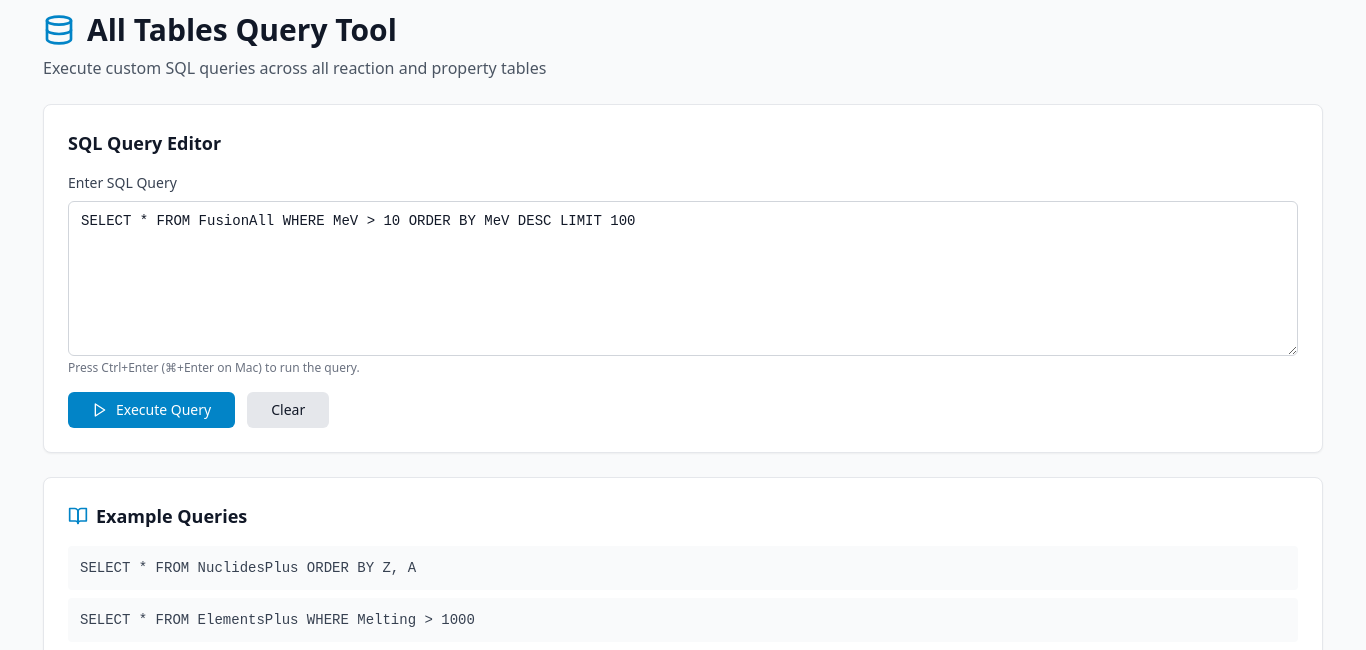
AllTables › shows error message on query failure
The width and height of the screenshot is (1366, 650).
Click the button "Execute Query": (152, 410) [68,392,235,428]
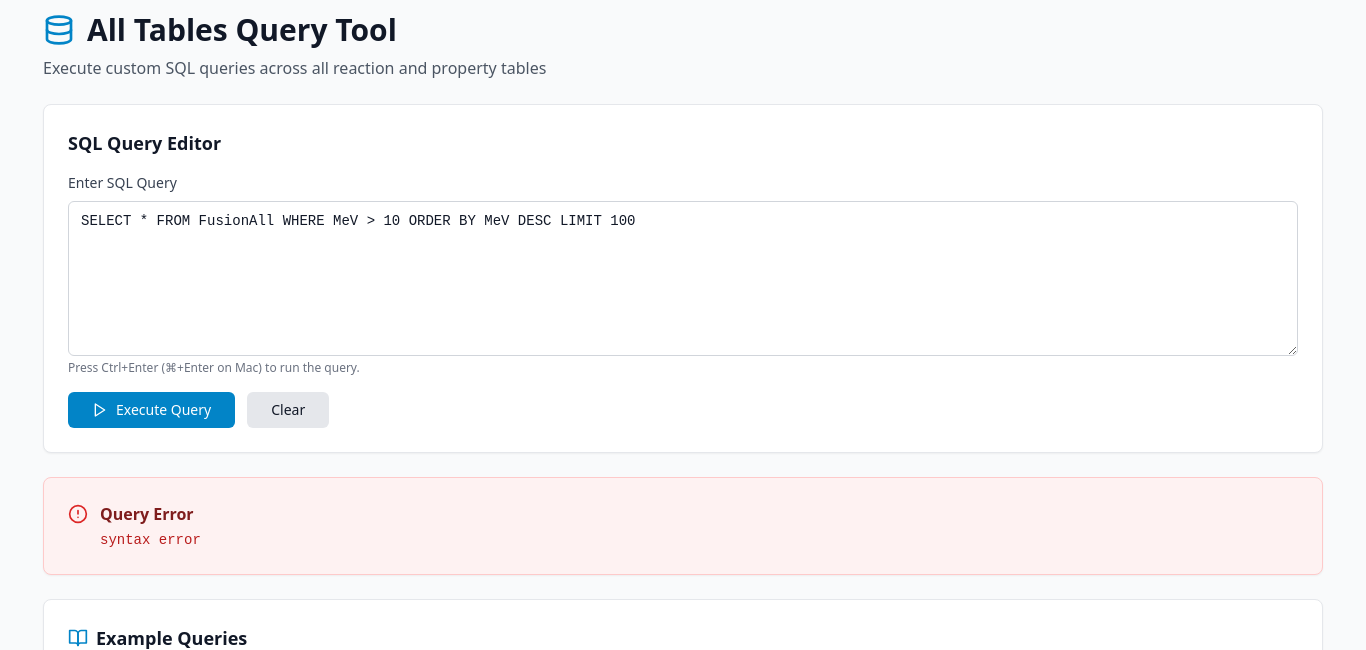
Now the text "syntax error" is shown, box [100,530,201,550]
